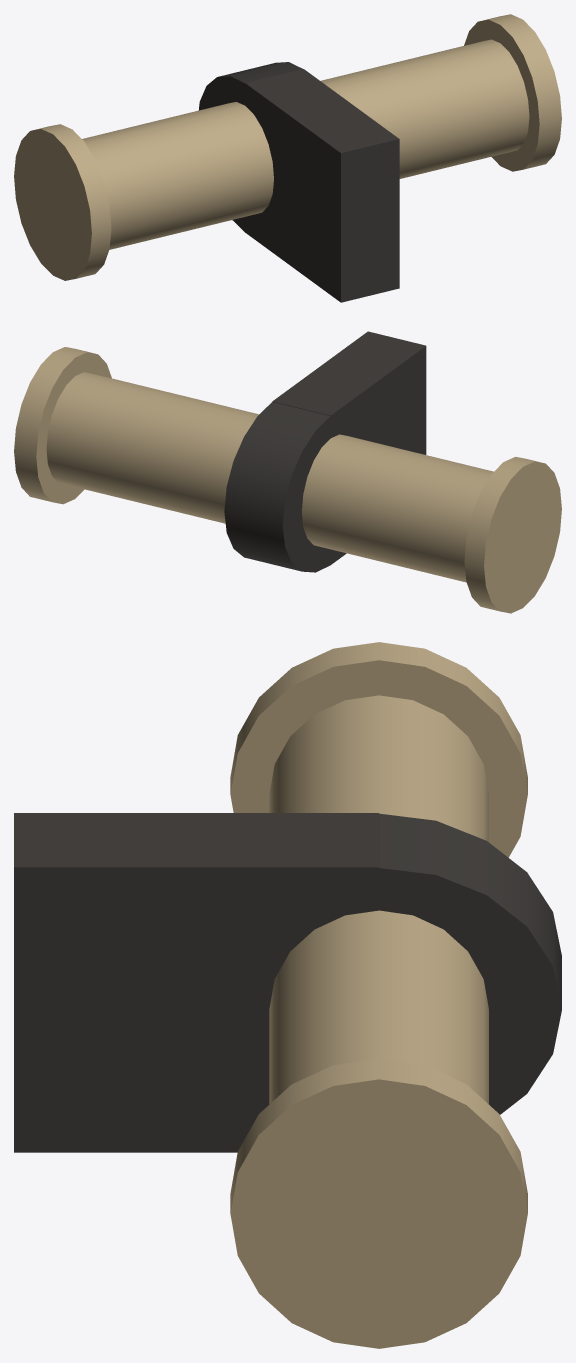
The model's file is pipe_shape_1.fbx.
3 renders of one model, top to bottom at view 1: azimuth 30°, elevation 25°; view 2: azimuth 150°, elevation 25°; view 3: azimuth 270°, elevation 25°, orthographic. The views are drawn at different scales.
Visible parts, largest first — view 1: pCylinder62, pCylinder71; view 2: pCylinder62, pCylinder71; view 3: pCylinder62, pCylinder71.
Part boxes in pixels (<box>): pCylinder62: <box>14,14,561,280</box>; pCylinder71: <box>198,62,399,302</box>; pCylinder62: <box>14,347,561,613</box>; pCylinder71: <box>224,331,426,572</box>; pCylinder62: <box>230,642,527,1348</box>; pCylinder71: <box>14,813,561,1152</box>.
Bounding box in the file's own units: 1.05 × 0.3208 × 0.5587.
